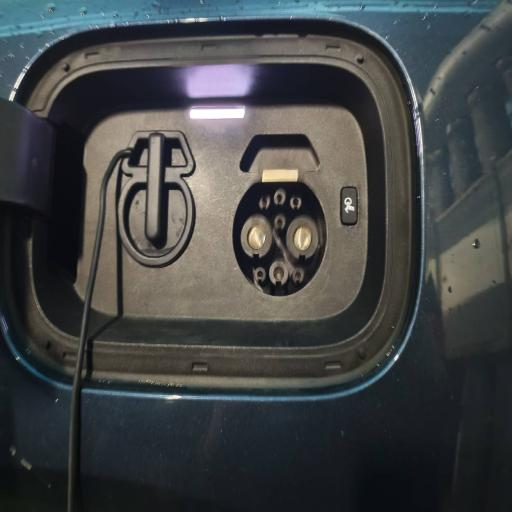DC_hole: (286, 216, 321, 261), (239, 215, 273, 261)
PE: (268, 262, 290, 286)
charging_port: (231, 179, 330, 299)
